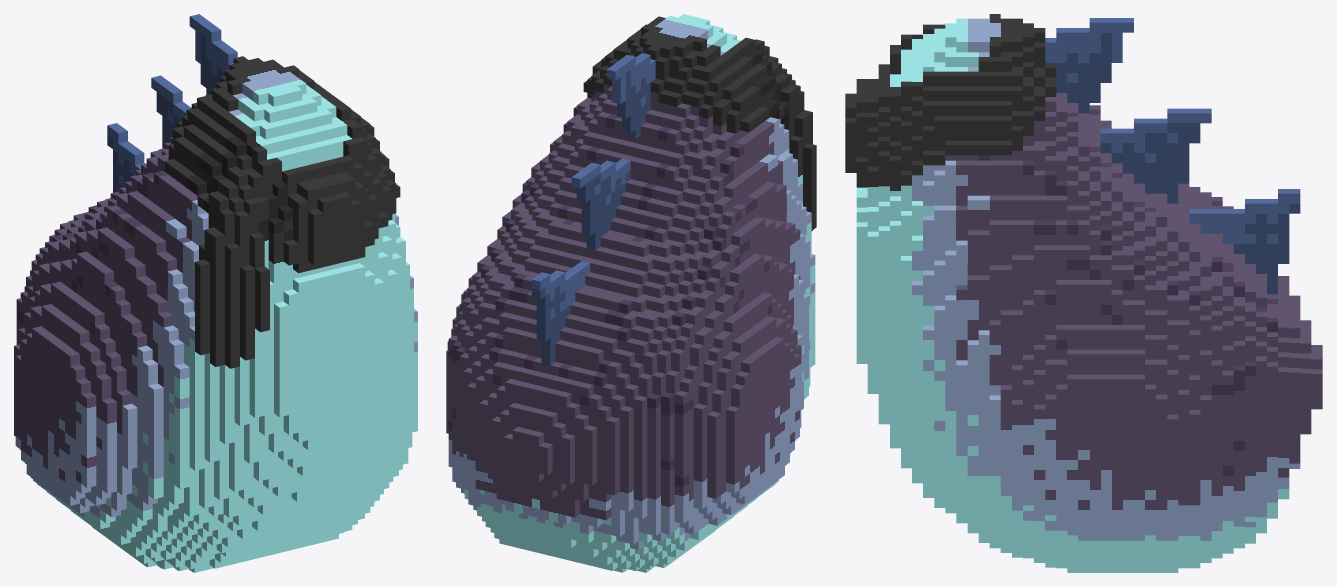
Rendered from black scarf.gltf.
3 renders of one model, left to right at view 1: azimuth 30°, elevation 25°; view 2: azimuth 150°, elevation 25°; view 3: azimuth 270°, elevation 25°, orthographic. The views are drawn at different scales.
Visible parts, largest first — view 1: 03_Body_BlackScarf-Mesh; view 2: 03_Body_BlackScarf-Mesh; view 3: 03_Body_BlackScarf-Mesh.
Boxes of the visible parts, <box> form: 03_Body_BlackScarf-Mesh: <box>14,14,417,572</box>; 03_Body_BlackScarf-Mesh: <box>446,14,816,572</box>; 03_Body_BlackScarf-Mesh: <box>845,14,1322,572</box>.
Bounding box in the file's own units: 33 × 51 × 43.
Materials: 1 (1 with a texture image).
